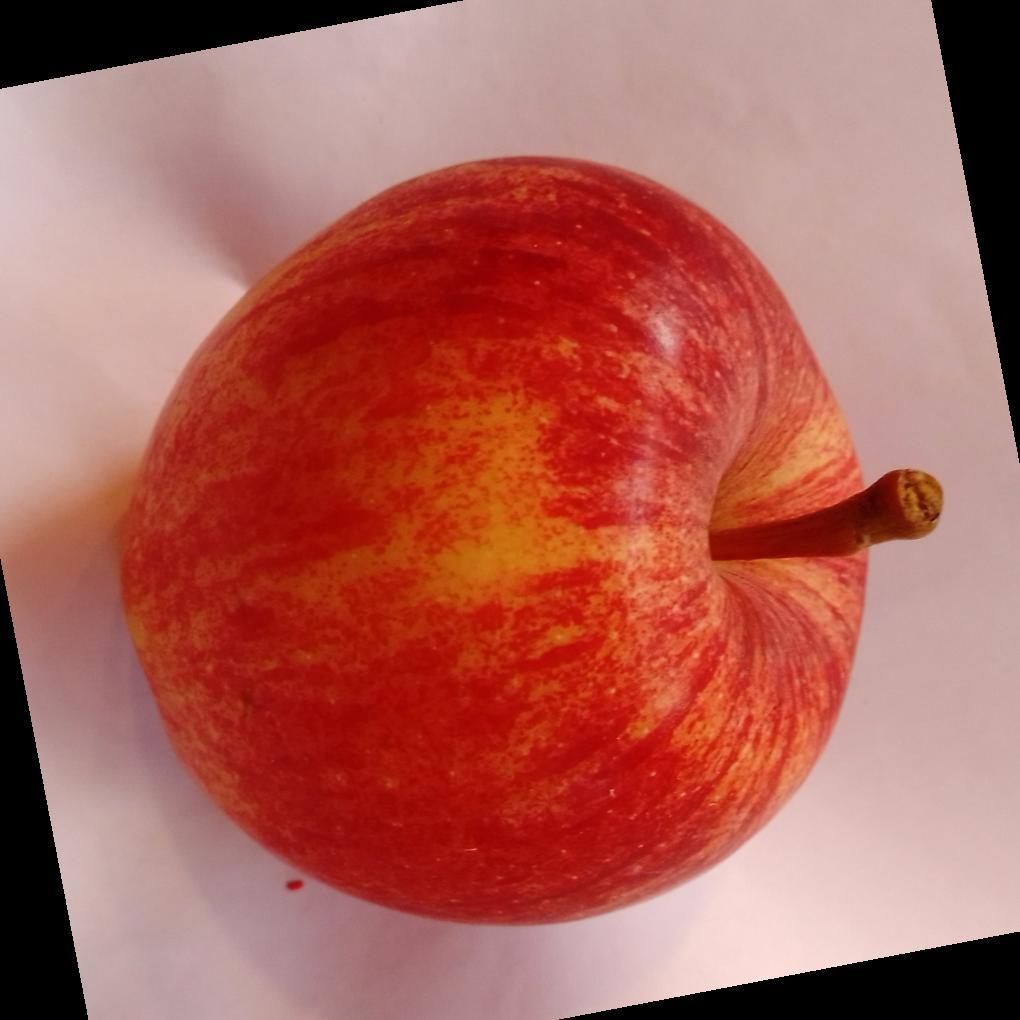FreshGuava: (115, 156, 945, 932)
